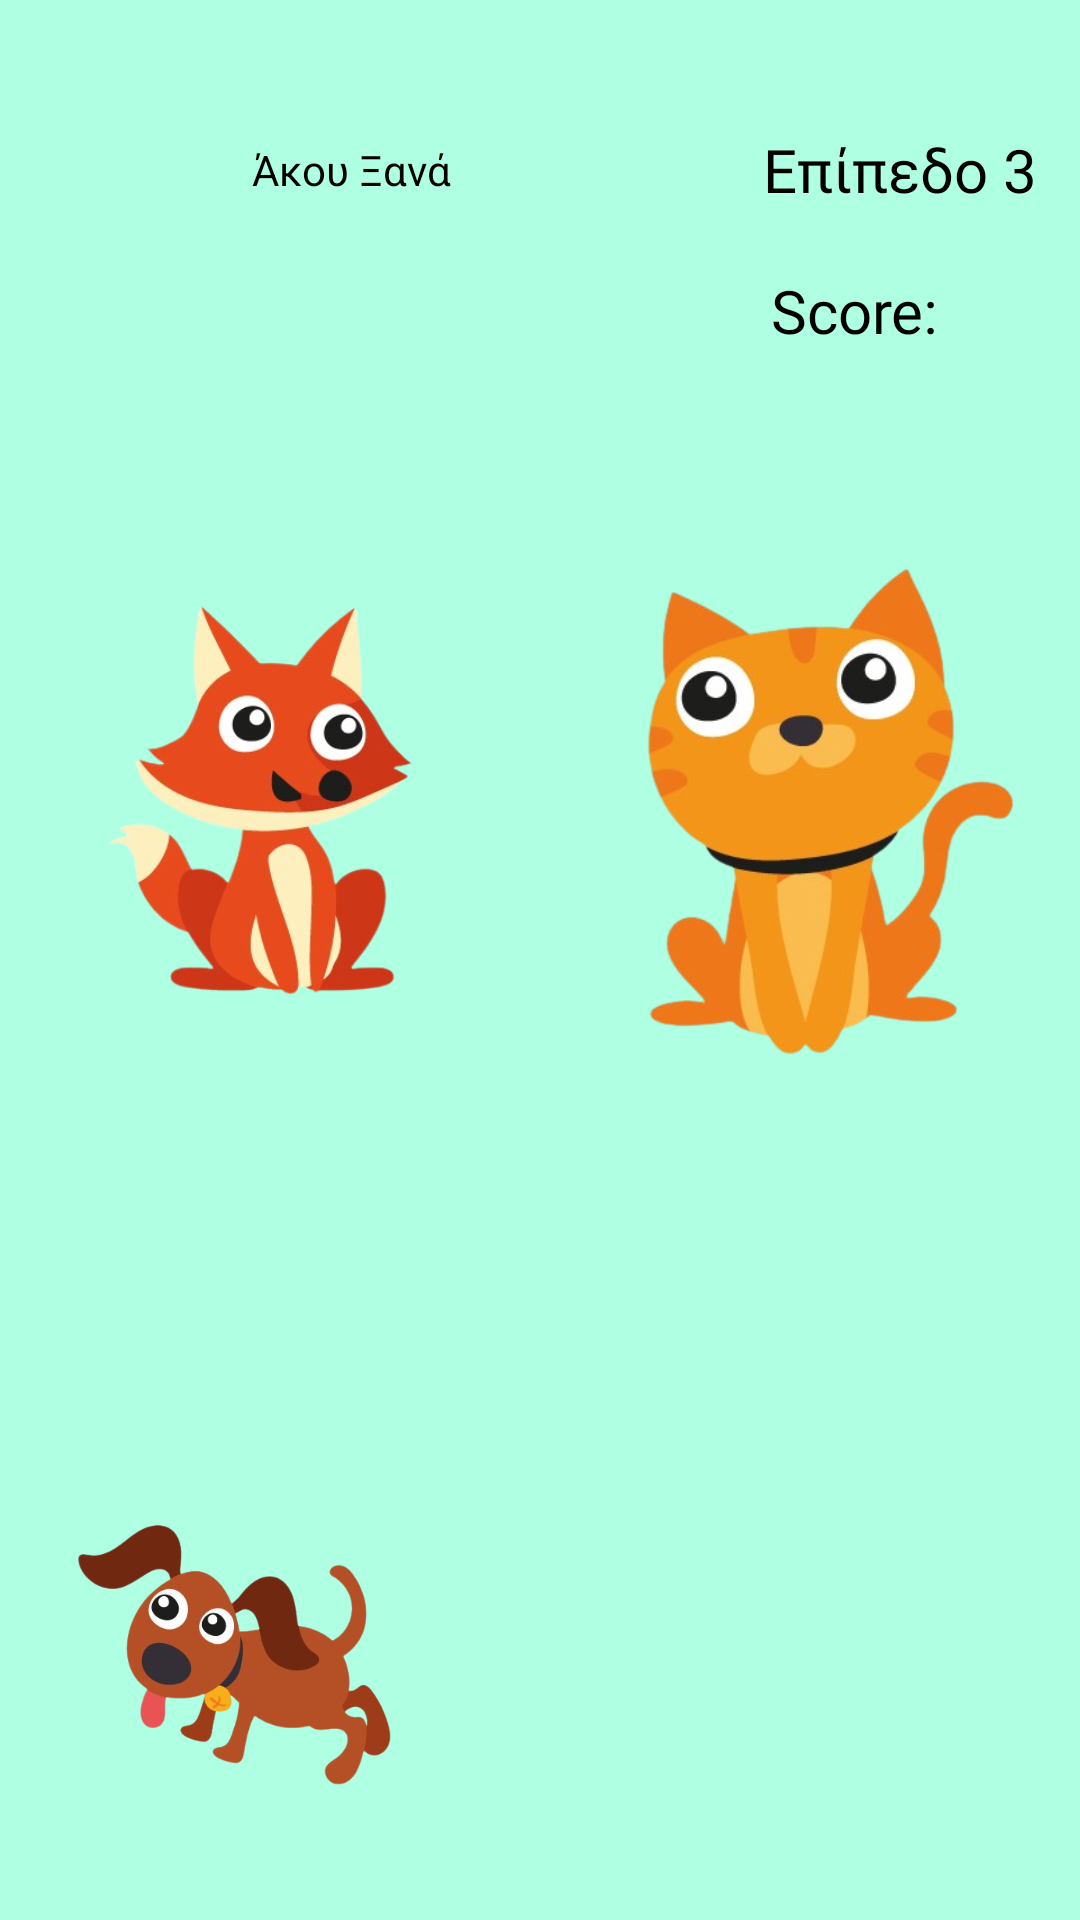

Icons on this 1080 x 1920 Android screen, each with its box as (x1, y1, x2, y2):
skilos: (78, 1525, 391, 1785)
